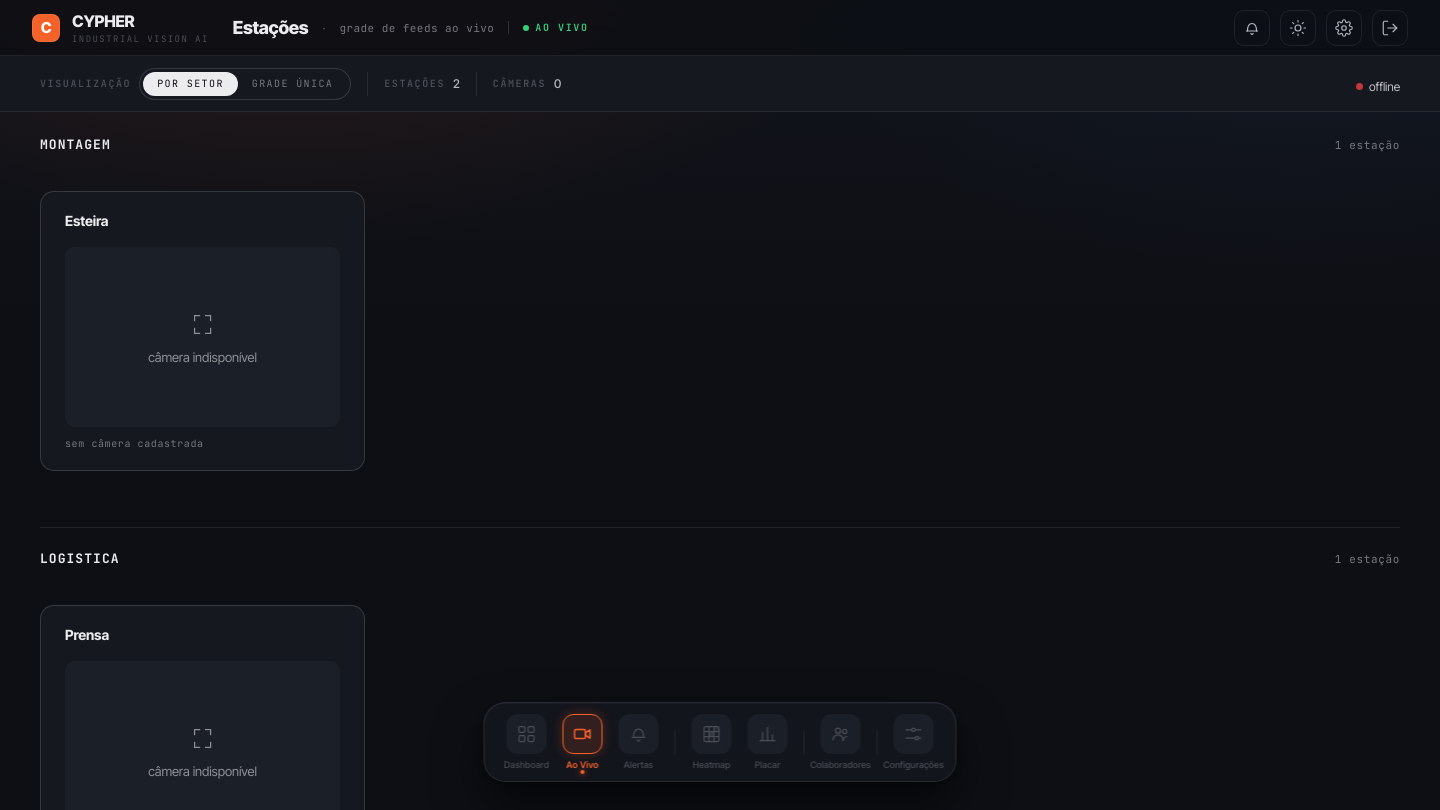
Test case: StationsGridComponent › ao clicar em "Grade única", mostra as estações numa grade só, sem cabeçalho de setor
What coordinates should you click on to do the following:
click the button "Grade única"
I would click on:
 (292, 84)
Its box is 238,72 -> 347,96.
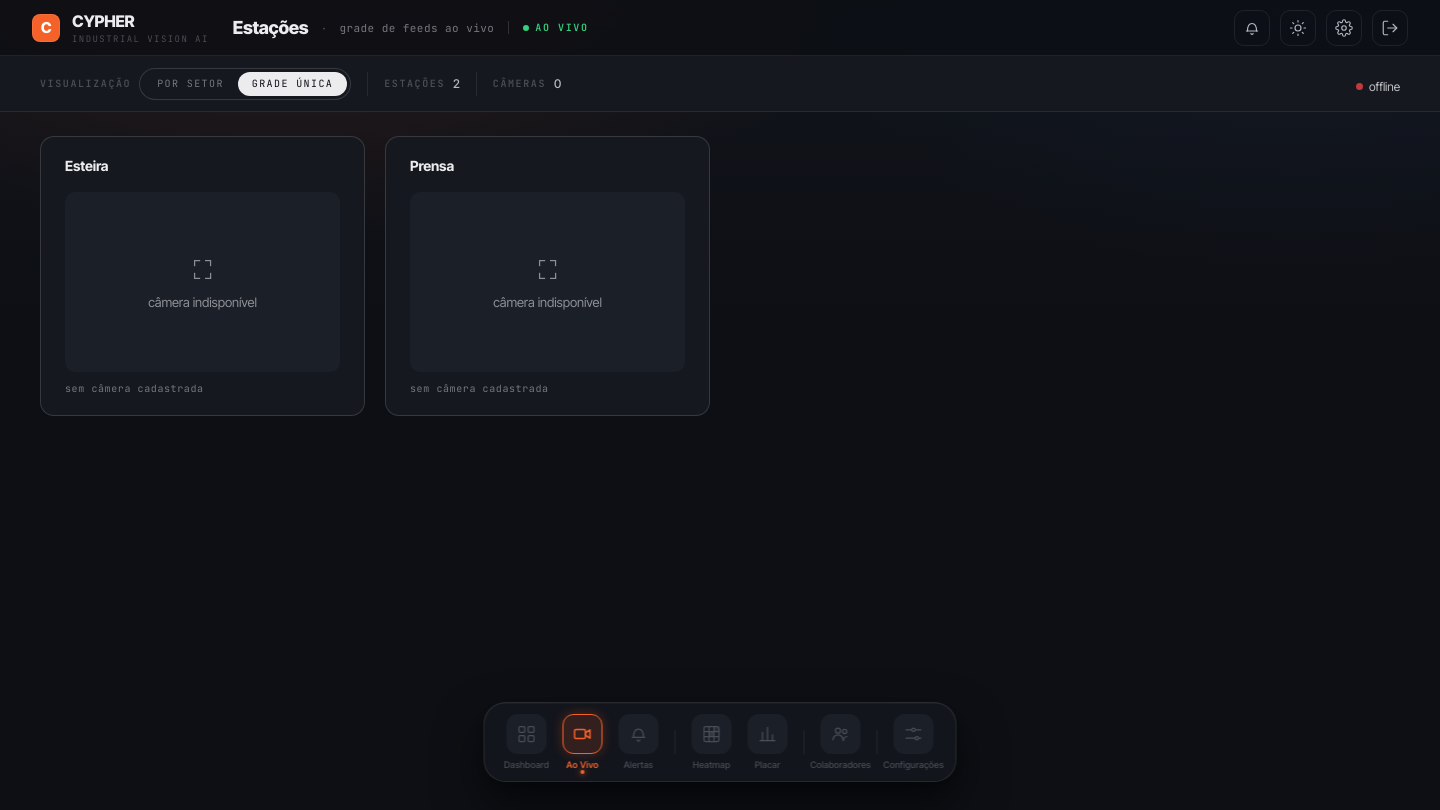
expect the heading with class "setor-heading" is gone: met
